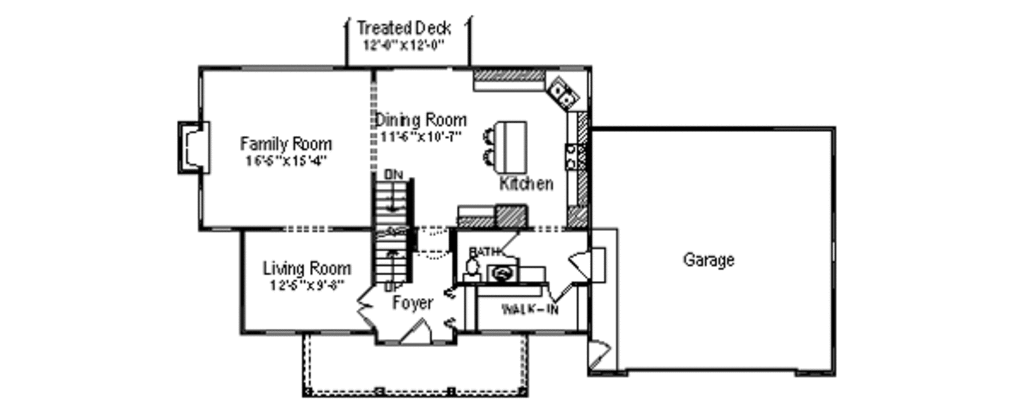door: (400, 317, 436, 347), (352, 283, 373, 328), (586, 337, 611, 371), (566, 248, 591, 282), (543, 279, 571, 302), (499, 230, 518, 260)
kitchen_bar: (478, 119, 531, 179)
stairs: (371, 166, 418, 294)
twin_sink: (545, 74, 579, 112)
windows: (261, 326, 355, 339)
